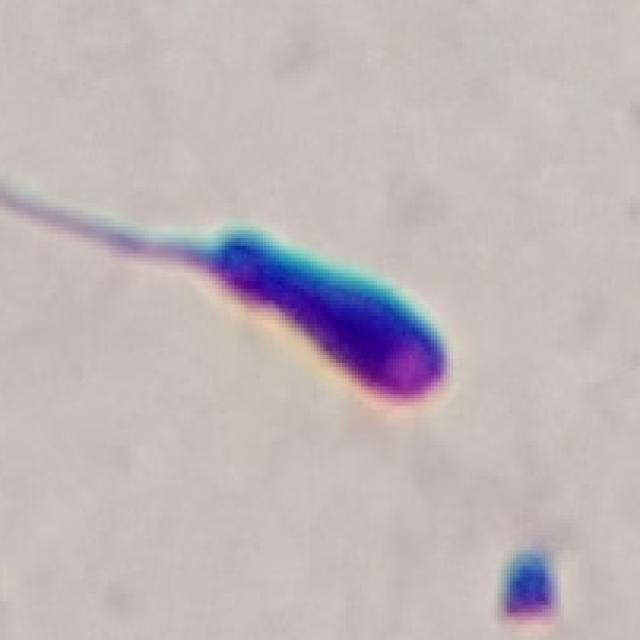abnormal sperm: (14, 102, 472, 426)
